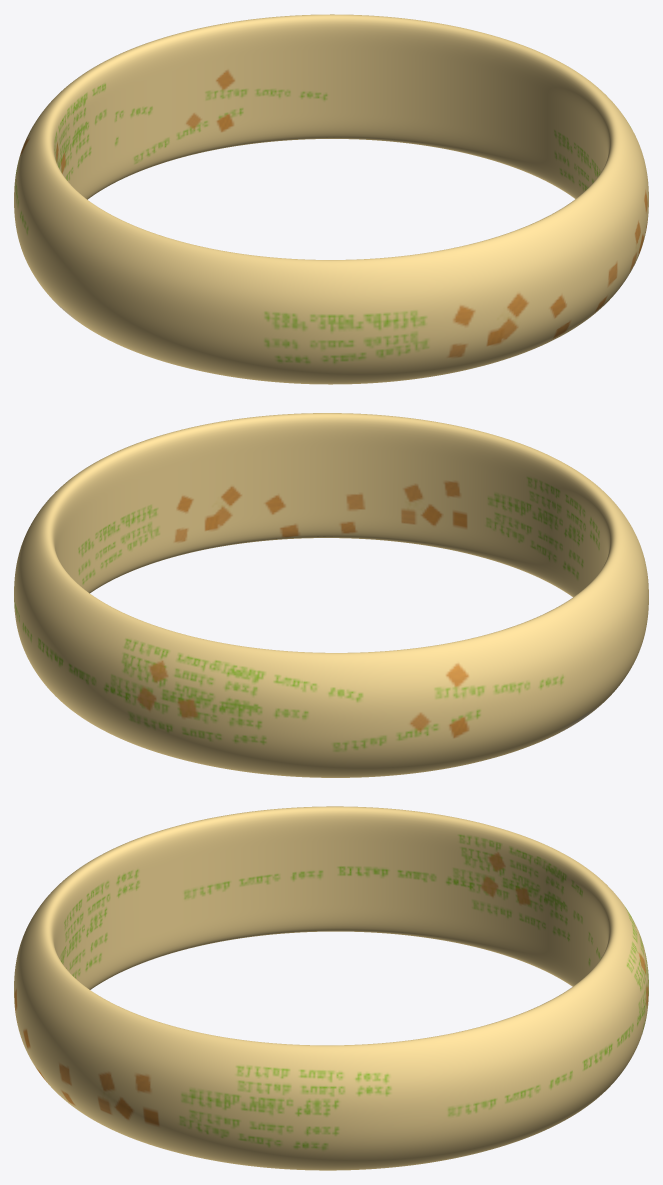
File: ring.gltf
3 views of the same model, one above another, from view 1: azimuth 30°, elevation 25°; view 2: azimuth 150°, elevation 25°; view 3: azimuth 270°, elevation 25° (orthographic).
Visible parts, largest first — view 1: кОЛЬЦО; view 2: кОЛЬЦО; view 3: кОЛЬЦО.
Boxes of the visible parts, bbox=[...] form: кОЛЬЦО: bbox=[14, 14, 648, 384]; кОЛЬЦО: bbox=[14, 413, 648, 777]; кОЛЬЦО: bbox=[14, 806, 648, 1170].
Bounding box in the file's own units: 194 × 42.99 × 194.
Materials: 1 (1 with a texture image).
